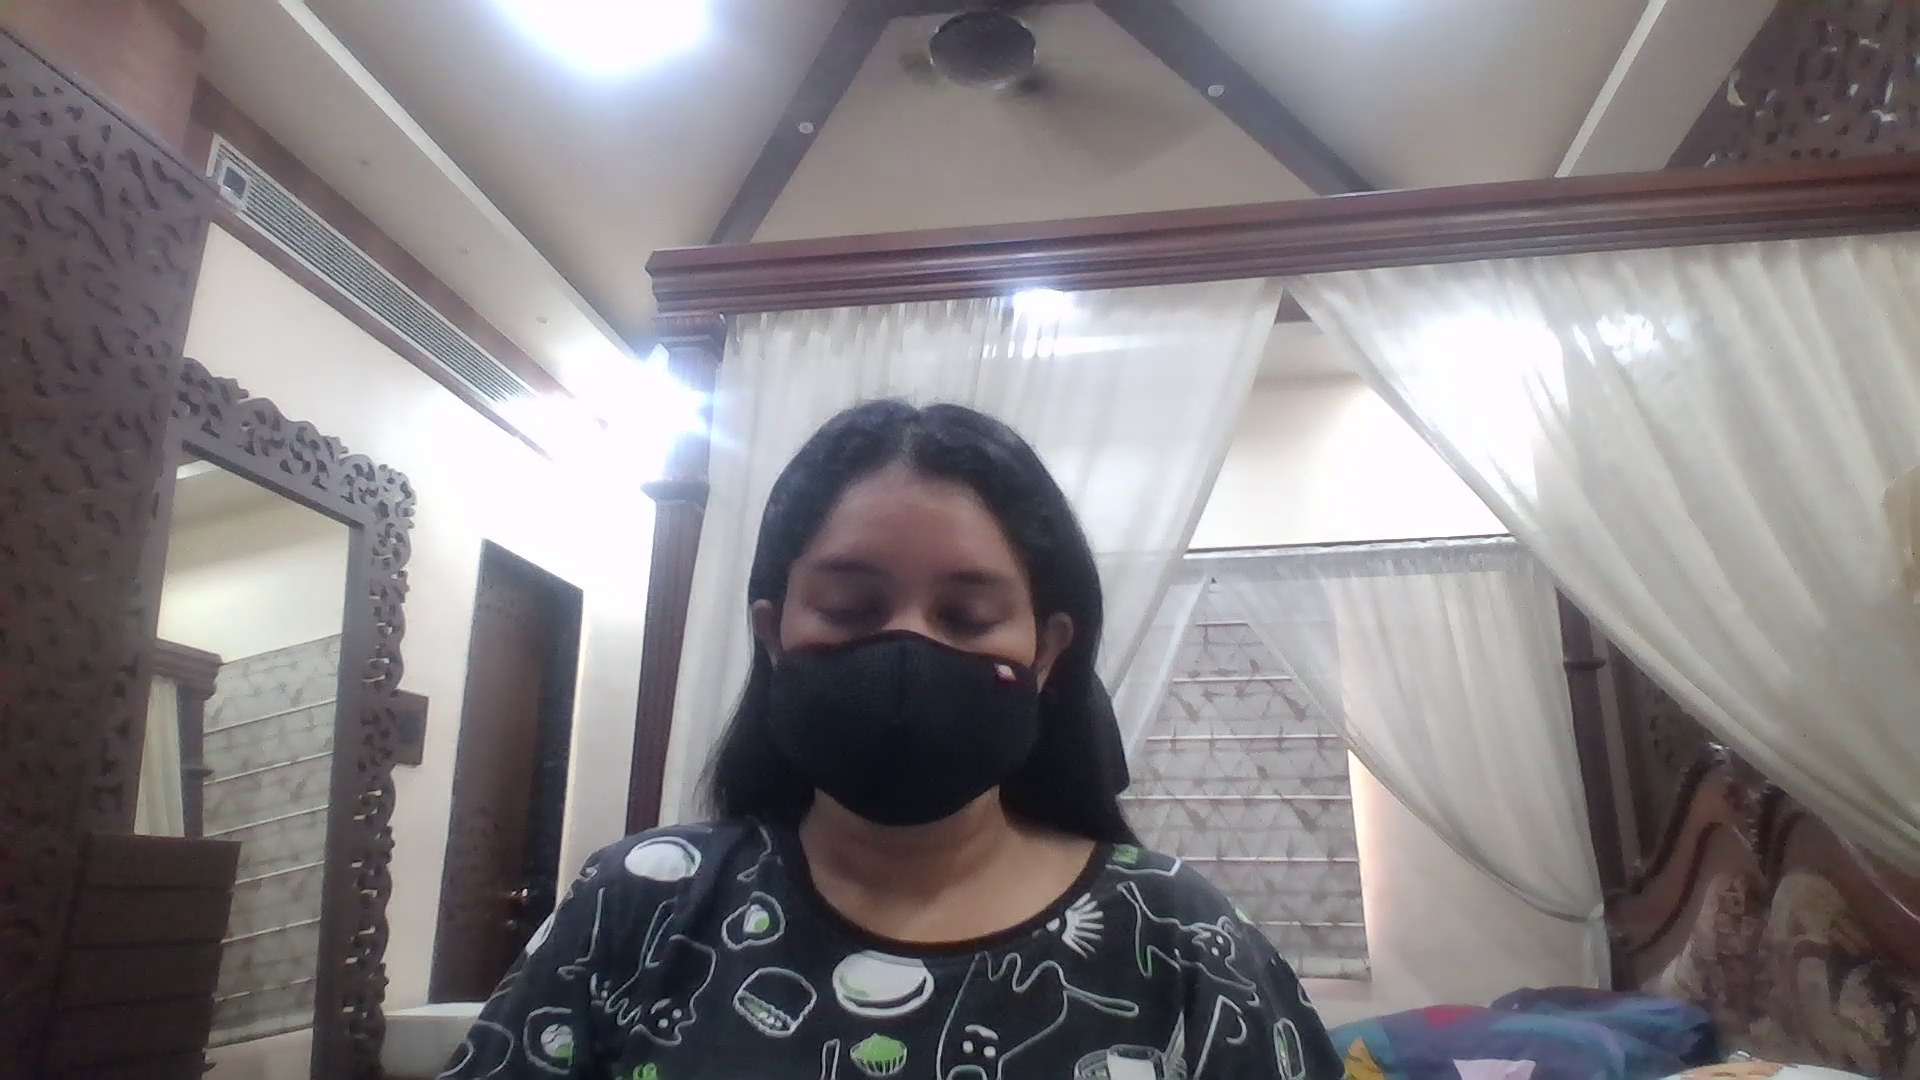Mask: (767, 634, 1040, 823)
